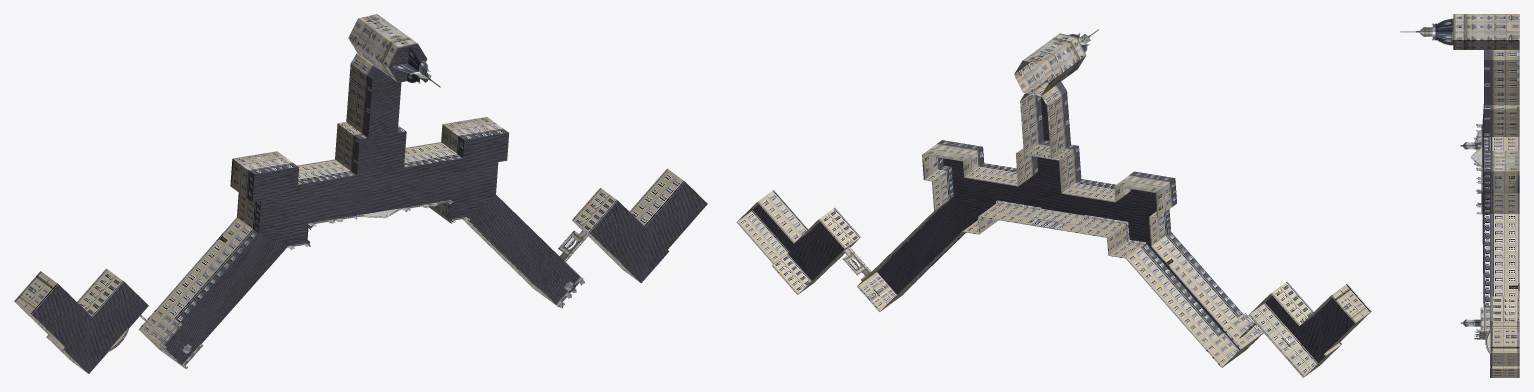
The model's file is DEU_062_KARLSRUHE_KARLSRU_L.OBJ.
3 renders of one model, left to right at view 1: azimuth 30°, elevation 25°; view 2: azimuth 150°, elevation 25°; view 3: azimuth 270°, elevation 25°, orthographic. The views are drawn at different scales.
Parts seen in each view (by area): view 1: DEU_062_KARLSRUHE_KARLSRU_L; view 2: DEU_062_KARLSRUHE_KARLSRU_L; view 3: DEU_062_KARLSRUHE_KARLSRU_L.
Part boxes in pixels (left/top/right/bottom): DEU_062_KARLSRUHE_KARLSRU_L: left=14, top=14, right=707, bottom=373; DEU_062_KARLSRUHE_KARLSRU_L: left=736, top=29, right=1371, bottom=377; DEU_062_KARLSRUHE_KARLSRU_L: left=1400, top=14, right=1519, bottom=377.
Bounding box in the file's own units: 258 × 115 × 48.31.
Materials: 1 (1 with a texture image).
